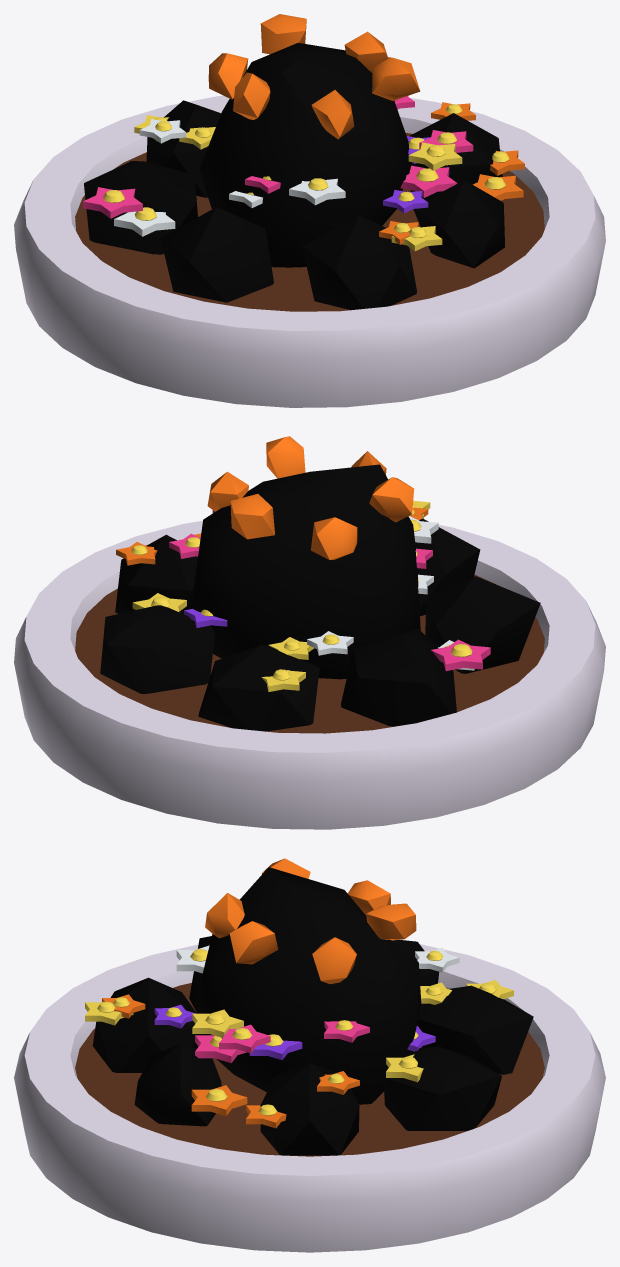
Rendered from lobby_planter.obj.
The picture shows the model from 3 angles, top to bottom: view 1: azimuth 30°, elevation 25°; view 2: azimuth 150°, elevation 25°; view 3: azimuth 270°, elevation 25°; orthographic projection.
Visible parts, largest first — view 1: lobby_planter; view 2: lobby_planter; view 3: lobby_planter.
Boxes of the visible parts, x1,y1,x2,y2 form: lobby_planter: (14,14,605,407); lobby_planter: (14,436,605,829); lobby_planter: (14,858,605,1252).
Bounding box in the file's own units: 8.4 × 3.77 × 8.4.
Materials: 1 (1 with a texture image).
